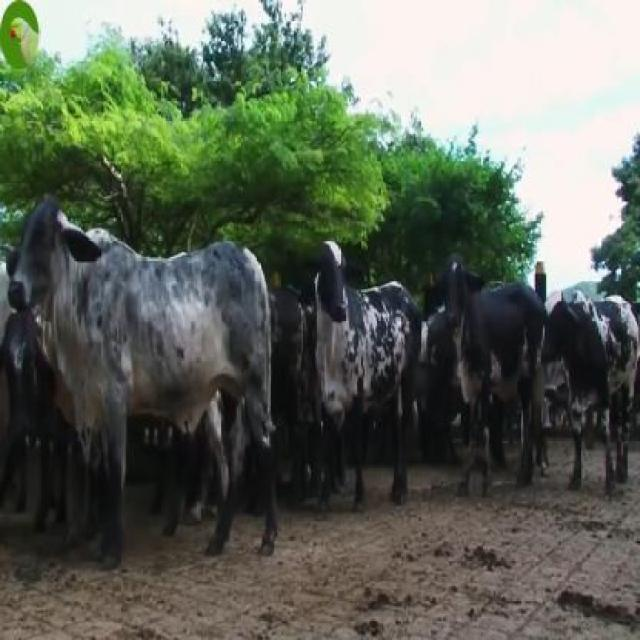Cow: (9, 191, 280, 557), (314, 238, 420, 508), (430, 256, 544, 502), (537, 289, 638, 502)
